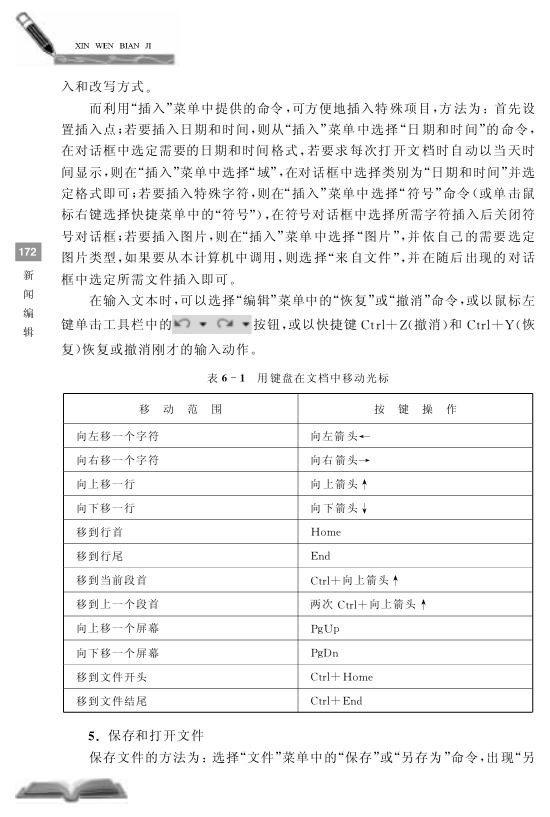table: (62, 393, 533, 712)
